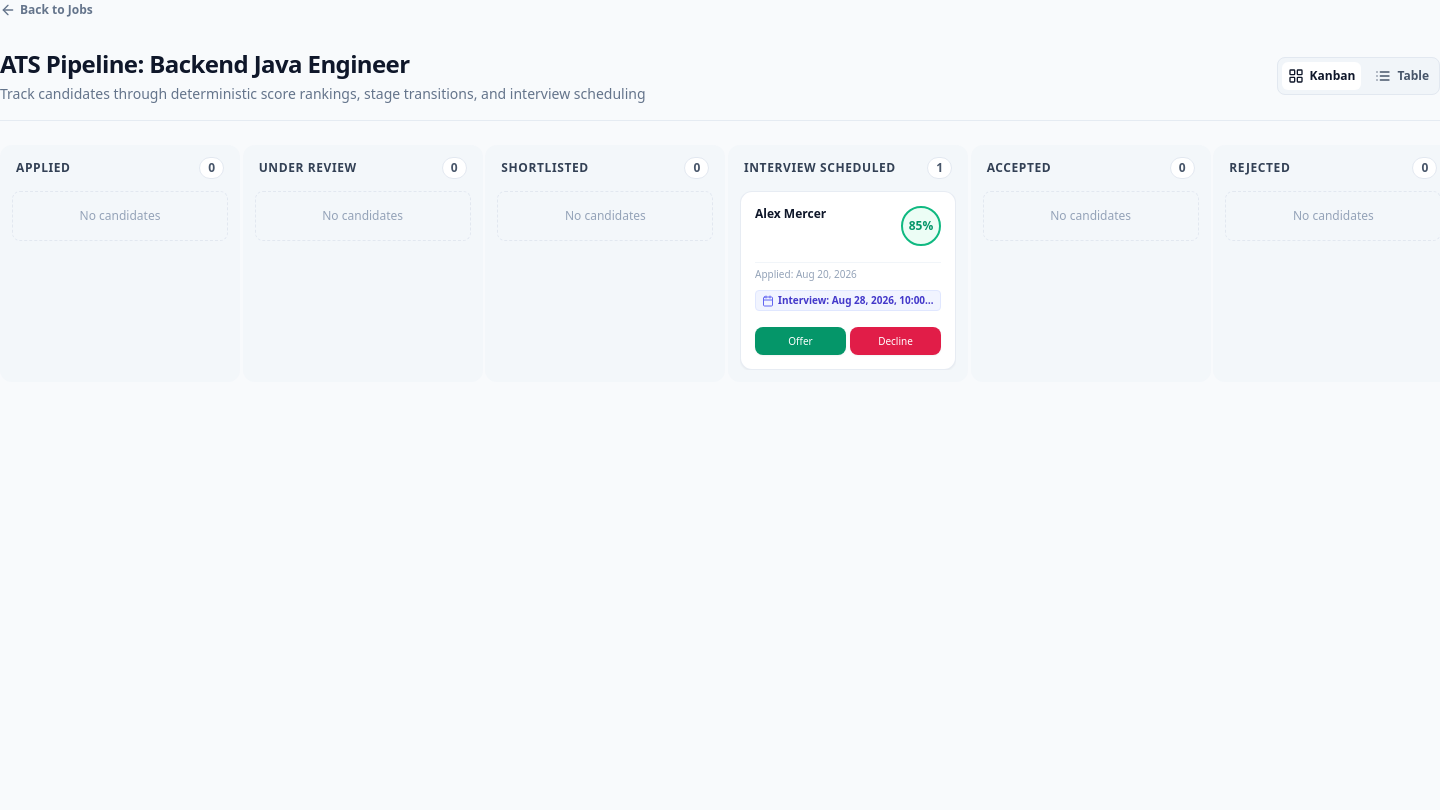
Test case: Recruiter Dossier & Notes Workflow › renders Reschedule button in Candidate Dossier when candidate status is INTERVIEW_SCHEDULED and opens scheduler
# Open dossier
Click the heading "Alex Mercer" at (791, 214), box x1=755 y1=206 x2=826 y2=222
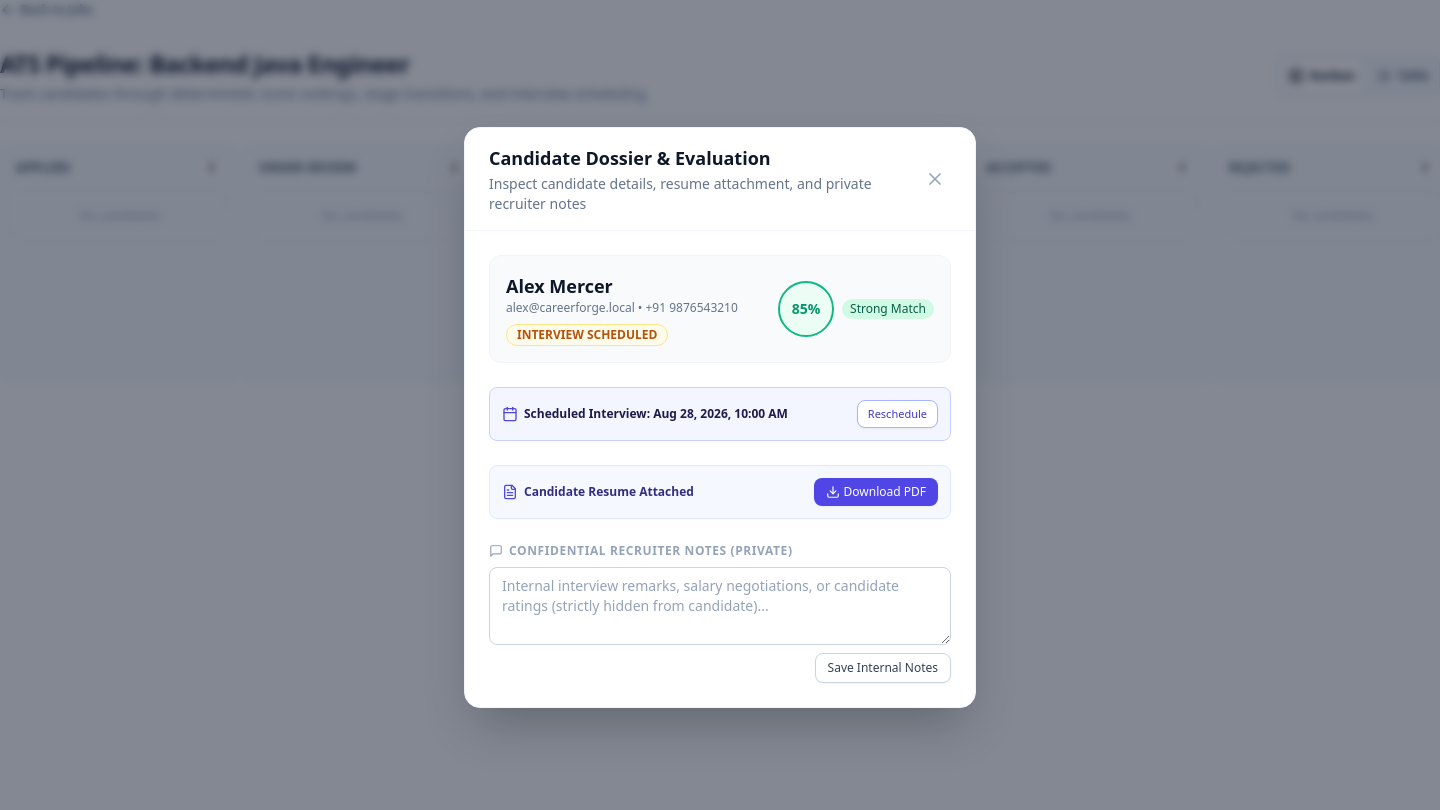
Check: the heading "Candidate Dossier & Evaluation" is shown, box x1=489 y1=146 x2=771 y2=170
Check: the button "Reschedule" is shown
# Click Reschedule
Click the button "Reschedule" at (897, 414), box x1=857 y1=400 x2=938 y2=428
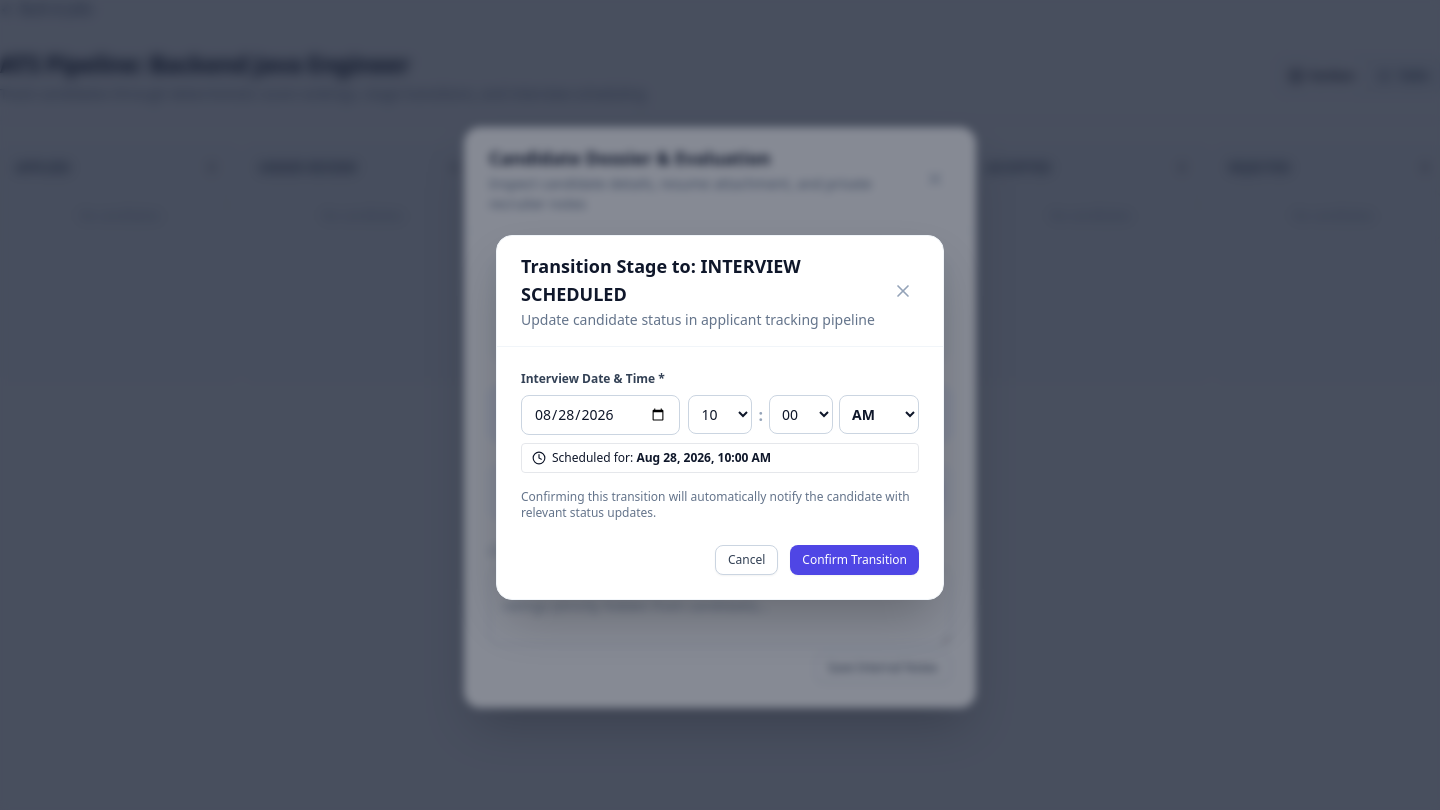
Check: the heading "Transition Stage to: INTERVIEW SCHEDULED" is shown, box x1=521 y1=254 x2=801 y2=306
Check: the text "Interview Date & Time *" is shown, box x1=521 y1=370 x2=665 y2=386
